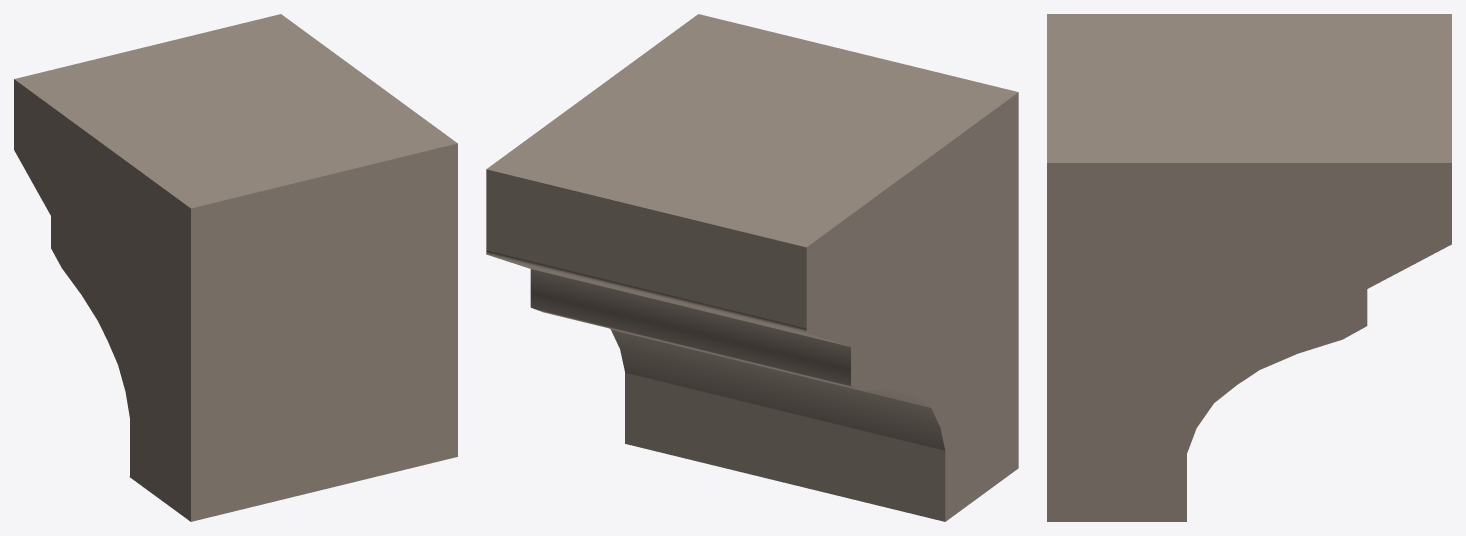
Rendered from Support_spiral_balcony.fbx.
3 renders of one model, left to right at view 1: azimuth 30°, elevation 25°; view 2: azimuth 150°, elevation 25°; view 3: azimuth 270°, elevation 25°, orthographic. The views are drawn at different scales.
Visible parts, largest first — view 1: pCube12; view 2: pCube12; view 3: pCube12.
Boxes of the visible parts, bbox=[...] form: pCube12: bbox=[14, 14, 457, 521]; pCube12: bbox=[486, 14, 1018, 521]; pCube12: bbox=[1047, 14, 1451, 521].
Bounding box in the file's own units: 1 × 1.12 × 1.15.
